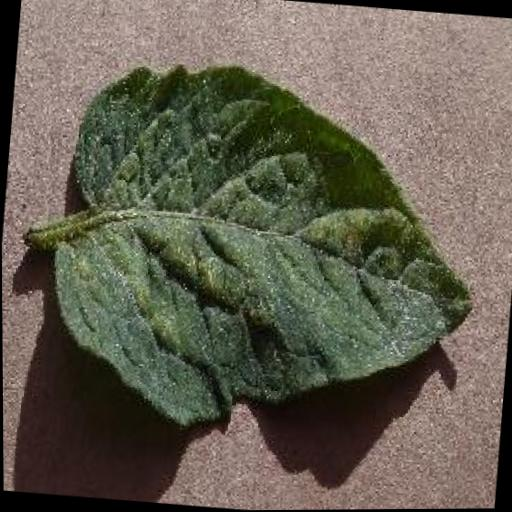Spider Mites: (42, 49, 493, 446)
